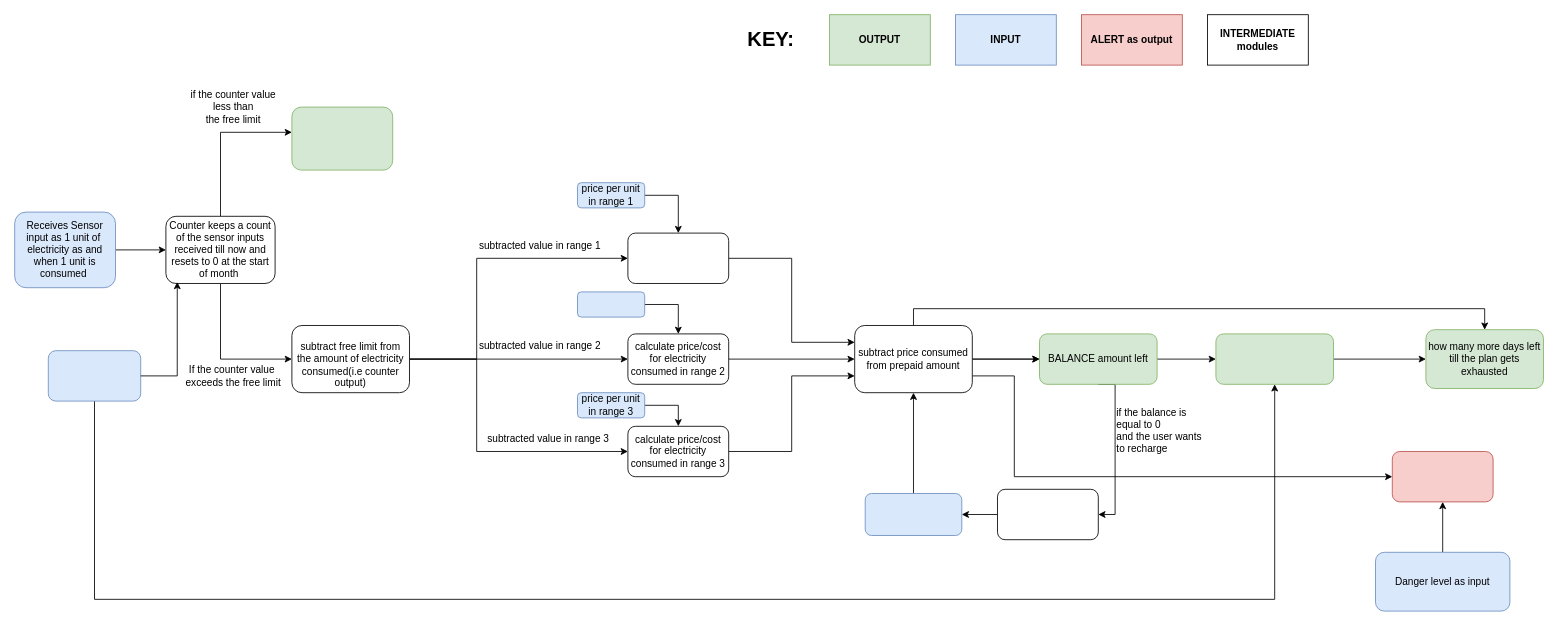
Some shapes in this 1558 by 626 pixel diagram are drawn without their labels. The shapes that lost their labels are listed below. From the top down, each one's centre as x and y in pixels, then its label:
At [342,138]: "NO MONEY DEDUCTED FROM PREPAID AMOUNT".
At [678,258]: "calculate price/cost for electricity consumed in range 1".
At [611,304]: "price per unit in range 2".
At [94,375]: "date as input".
At [1274,358]: "average consumption per day".
At [1442,476]: "ALERT when balance goes below the Danger level".
At [913,514]: "prepaid amount as input through switches".
At [1047,514]: "Input recharged amount as prepaid amount using switches".
